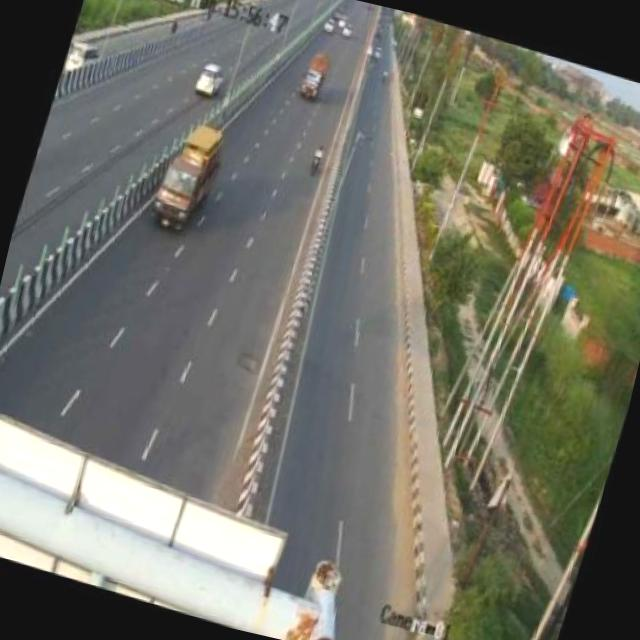car: (191, 56, 234, 106)
